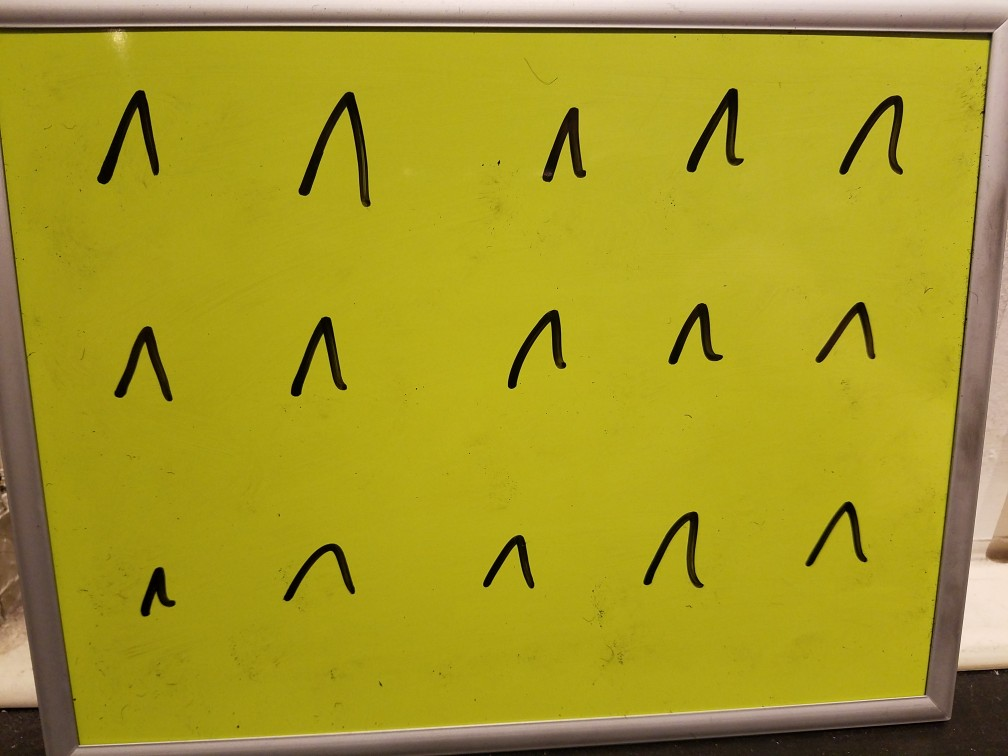^: (277, 74, 403, 210), (653, 69, 779, 197), (76, 76, 179, 200), (824, 77, 927, 192), (798, 285, 911, 388), (491, 283, 589, 401), (628, 491, 713, 604), (269, 526, 374, 616), (103, 316, 192, 416), (795, 475, 871, 580), (659, 287, 728, 392), (529, 94, 600, 194), (285, 306, 356, 401), (482, 515, 548, 604), (123, 551, 187, 635)
